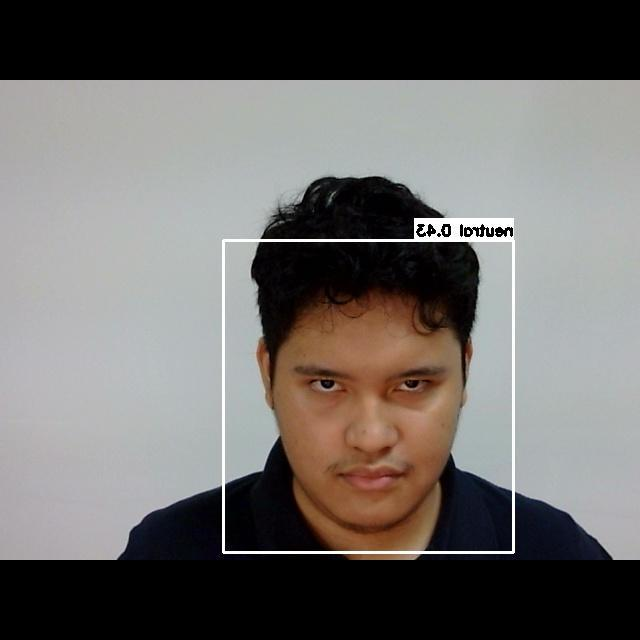Angry: (285, 341, 452, 491)
